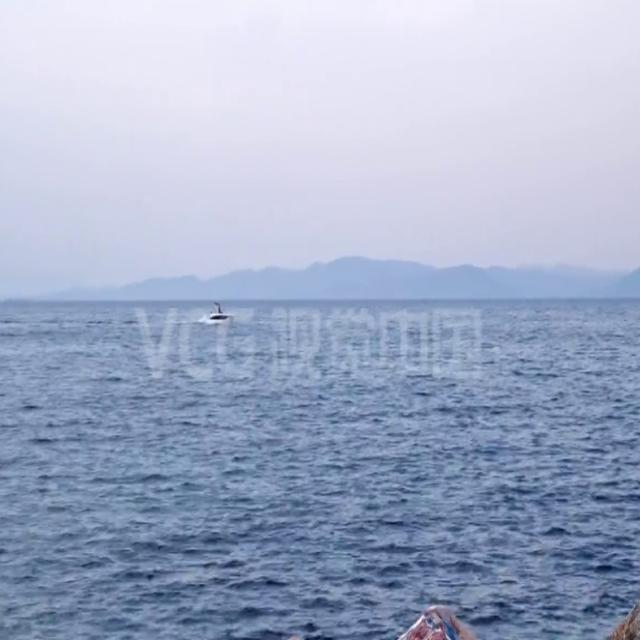houseboat: (206, 294, 234, 326)
